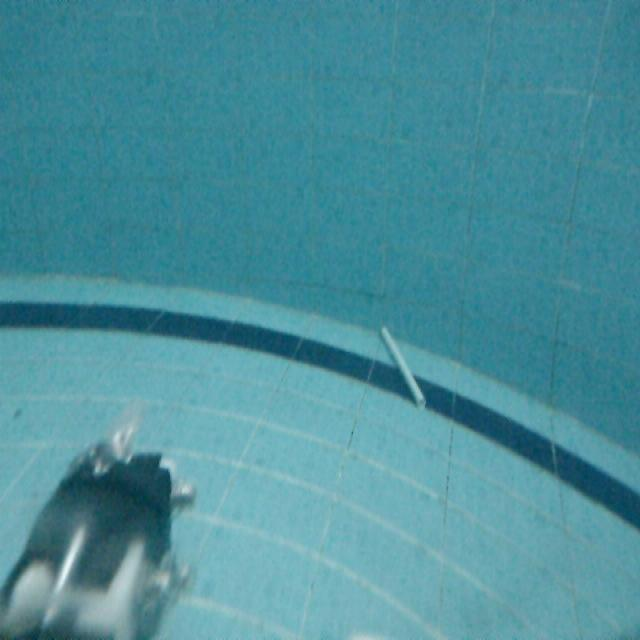Cube: (378, 325, 432, 414)
